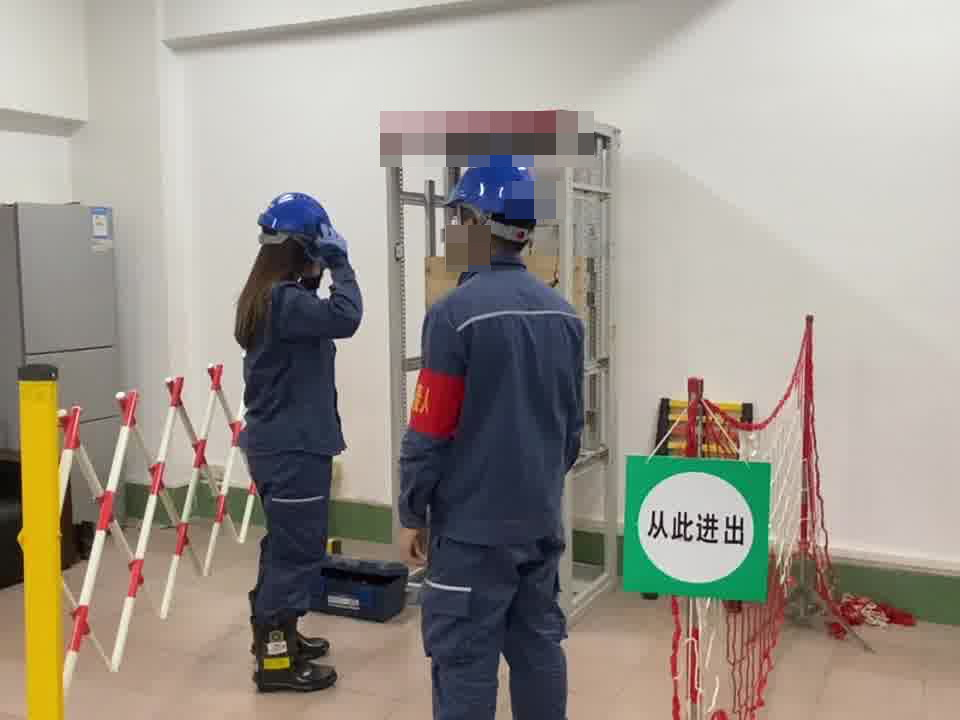badge: (408, 368, 467, 441)
downsuit: (420, 556, 574, 720), (247, 459, 337, 627)
glove: (310, 220, 351, 266)
hair: (233, 188, 346, 349)
halt: (444, 151, 545, 256)
hand: (398, 525, 433, 568)
inear: (450, 209, 485, 255)
intosign: (617, 442, 774, 613)
person: (394, 146, 592, 720), (229, 191, 364, 686)
shoe: (244, 615, 339, 691)
upsuit: (397, 260, 587, 542), (239, 280, 362, 453)
